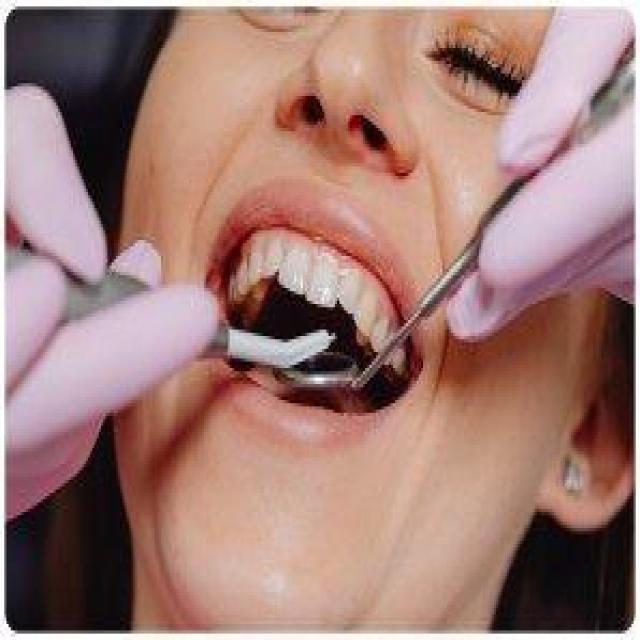Tooth: (307, 256, 339, 307), (277, 246, 309, 294), (354, 291, 378, 336), (339, 272, 359, 314), (262, 240, 283, 278), (247, 246, 264, 285)
